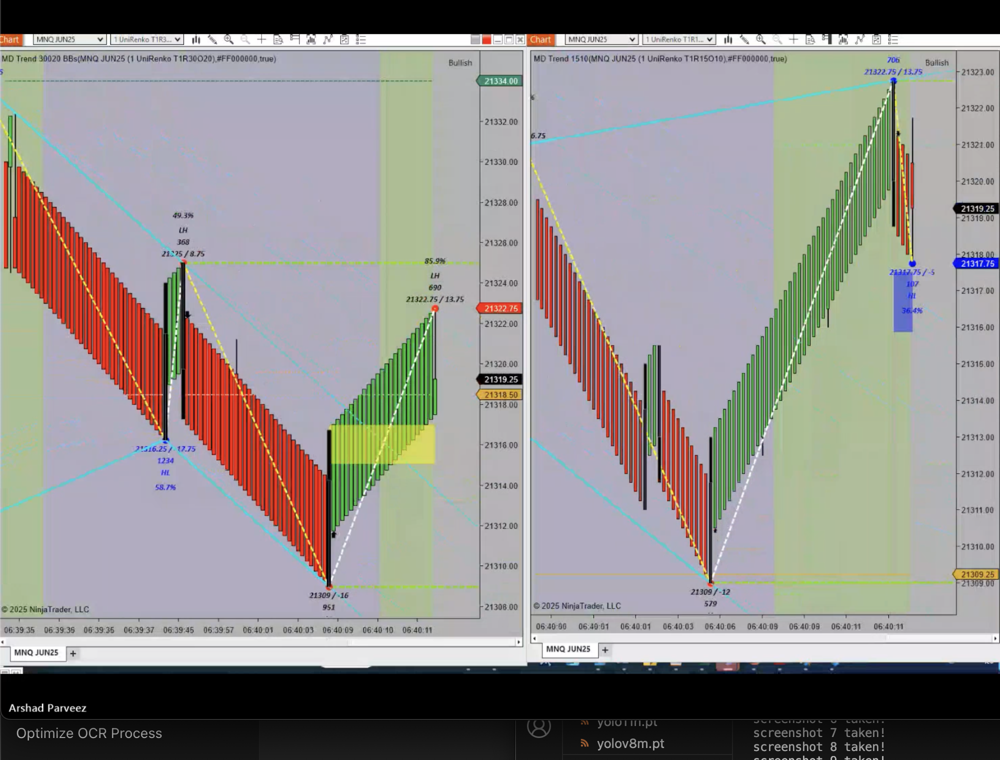HL: (903, 286, 920, 304), (159, 464, 174, 479)
LH: (176, 223, 191, 239), (426, 270, 444, 283)
